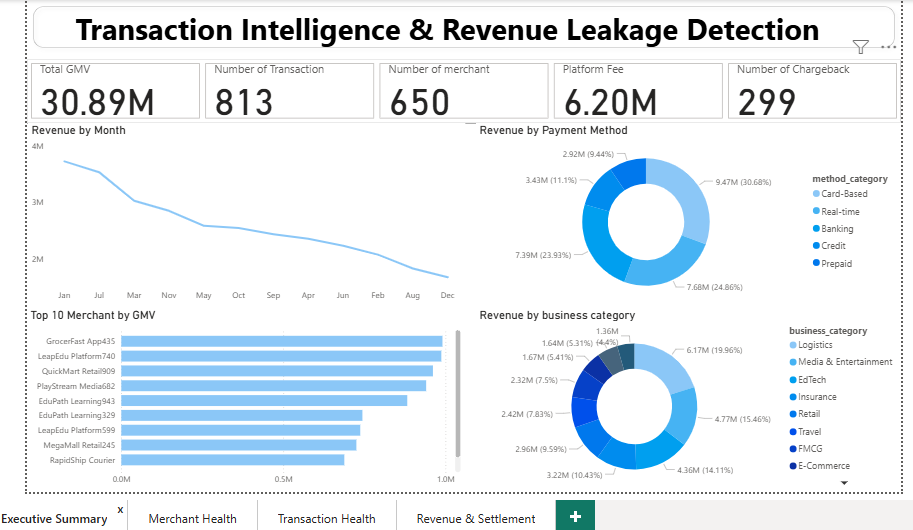

The dashboard page shown, as its layout file describes it:
{"tool":"powerbi","page":{"name":"Executive Summary","canvas":[1280,720],"ordinal":0},"visuals":[{"type":"cardVisual","fields":{"Data":["Sum(zorvyn fact_transactions.amount)","CountNonNull(zorvyn fact_transactions.txn_id)","Count(zorvyn dim_merchants.merchant_id)","Sum(zorvyn fact_settlements.platform_fee)","CountNonNull(zorvyn fact_chargebacks.chargeback_id)"]},"box":[0,86.3,1280.5,93.7],"z":0},{"type":"lineChart","title":"Revenue by Month","fields":{"Category":["zorvyn fact_transactions.month name"],"Y":["Sum(zorvyn fact_transactions.amount)"]},"box":[1.5,180,639.5,270.7],"z":1000},{"type":"donutChart","title":"Revenue by Payment Method","fields":{"Category":["zorvyn dim_payment_method.method_category"],"Y":["Sum(zorvyn fact_transactions.amount)"]},"box":[657.1,180,623.4,270.7],"z":2000},{"type":"barChart","title":"Top 10 Merchant by GMV","fields":{"Category":["zorvyn dim_merchants.merchant_name"],"Y":["Sum(zorvyn fact_transactions.amount)"]},"box":[0,450.7,639.5,269.3],"z":3000},{"type":"donutChart","title":"Revenue by business category","fields":{"Y":["Sum(zorvyn fact_transactions.amount)"],"Category":["zorvyn dim_merchants.business_category"]},"box":[657.1,450.7,623.4,269.3],"z":4000},{"type":"shape","box":[0,0,1279,79],"z":4001},{"type":"textbox","box":[65.9,7.3,1213.2,71.7],"z":4002}]}

Visuals, with their boxes on the page's 1280x720 design canvas (x1, y1, x2, y2). These are canvas units, not pixel positions in the 913x530 screenshot, which may show the page scaled, cropped or inside an application window:
cardVisual - Sum(zorvyn fact_transactions.amount) x CountNonNull(zorvyn fact_transactions.txn_id): [x1=0, y1=86, x2=1280, y2=180]
"Revenue by Month" lineChart: [x1=2, y1=180, x2=641, y2=451]
"Revenue by Payment Method" donutChart: [x1=657, y1=180, x2=1280, y2=451]
"Top 10 Merchant by GMV" barChart: [x1=0, y1=451, x2=640, y2=720]
"Revenue by business category" donutChart: [x1=657, y1=451, x2=1280, y2=720]
shape: [x1=0, y1=0, x2=1279, y2=79]
textbox: [x1=66, y1=7, x2=1279, y2=79]
